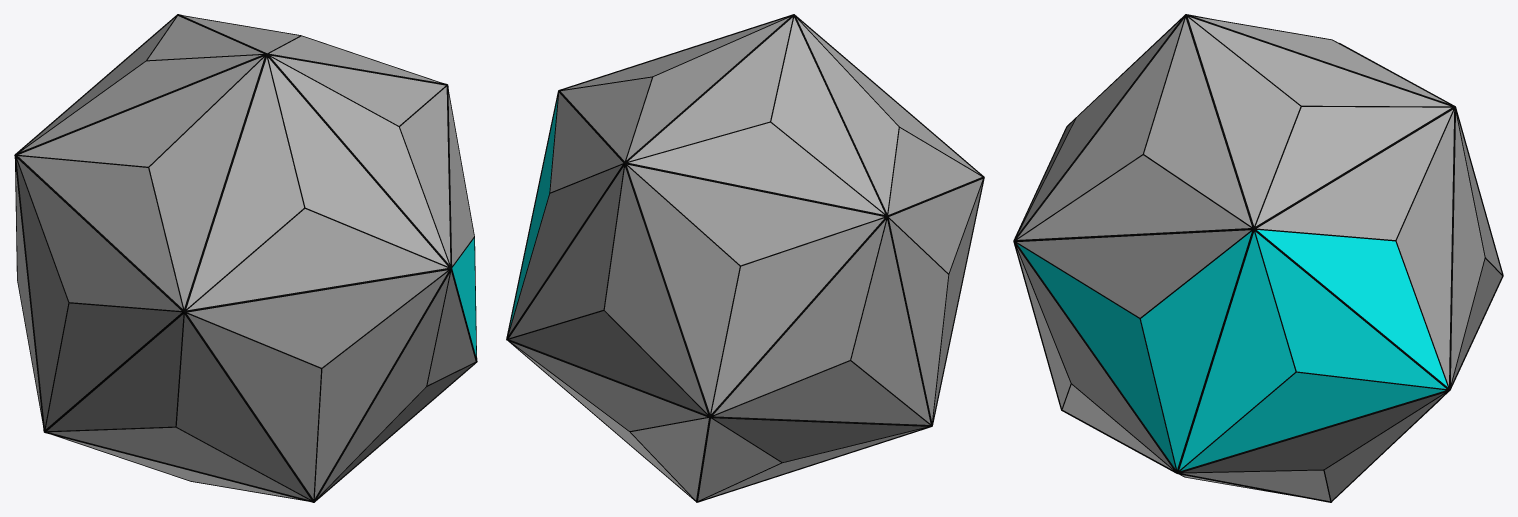
The model's file is TriakisIcosahedron6_3.glb.
3 views of the same model, side by side, from view 1: azimuth 30°, elevation 25°; view 2: azimuth 150°, elevation 25°; view 3: azimuth 270°, elevation 25° (orthographic). The views are drawn at different scales.
Size of the model in its own units: 5.91 by 6.64 by 6.23.
